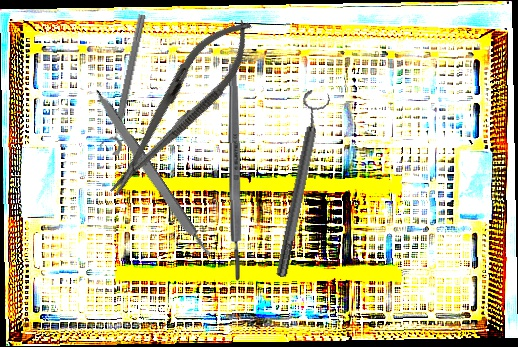Fixation Ring: (265, 88, 334, 280), (96, 11, 151, 157)
Needle Holder: (91, 4, 268, 210)
Scalpel Handle: (89, 86, 214, 263), (227, 61, 243, 282)
